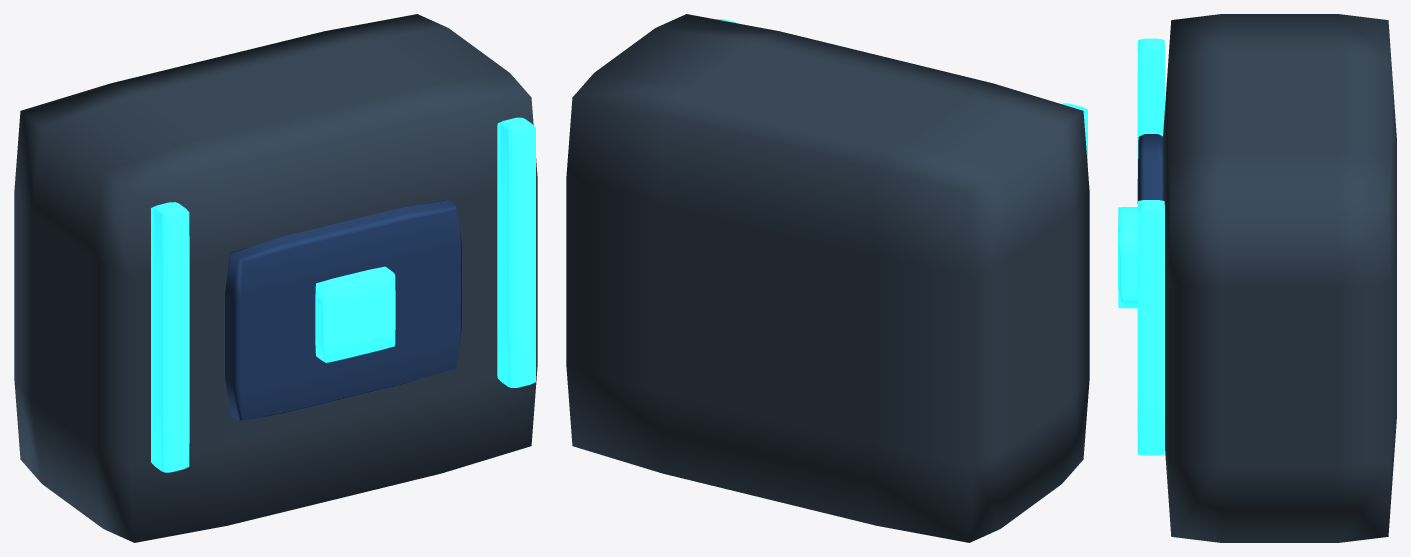
The model's file is shirt-code-grid.glb.
The picture shows the model from 3 angles, left to right: view 1: azimuth 30°, elevation 25°; view 2: azimuth 150°, elevation 25°; view 3: azimuth 270°, elevation 25°; orthographic projection. The views are drawn at different scales.
Visible parts, largest first — view 1: Torso, Panel, StripeR, StripeL, Core; view 2: Torso; view 3: Torso, StripeR, StripeL, Core, Panel.
Boxes of the visible parts, x1,y1,x2,y2 form: Torso: [14, 14, 537, 542]; Panel: [225, 200, 461, 420]; StripeR: [497, 117, 535, 387]; StripeL: [151, 202, 189, 472]; Core: [315, 266, 395, 362]; Torso: [566, 14, 1089, 542]; Torso: [1163, 14, 1396, 542]; StripeR: [1137, 200, 1164, 455]; StripeL: [1137, 38, 1164, 178]; Core: [1118, 207, 1137, 308]; Panel: [1137, 134, 1163, 203].
Bounding box in the file's own units: 2.05 × 1.72 × 1.22.
